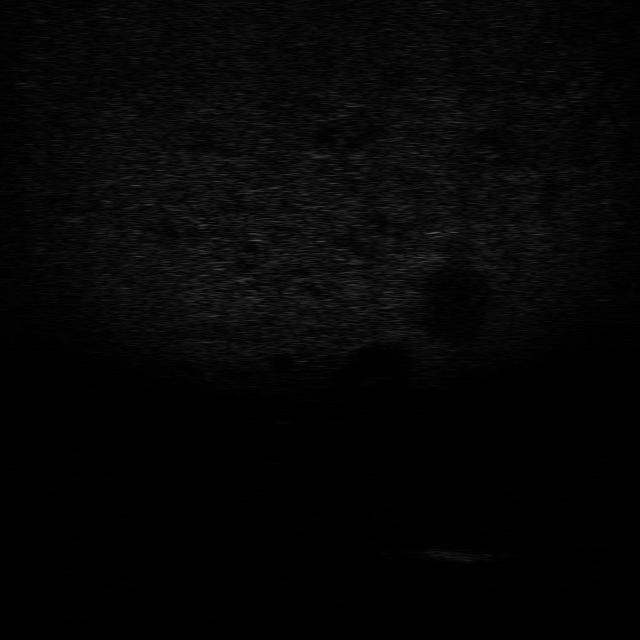ball: (264, 404, 295, 425)
metal bucket: (414, 542, 496, 568)
tyre: (339, 514, 411, 547)
